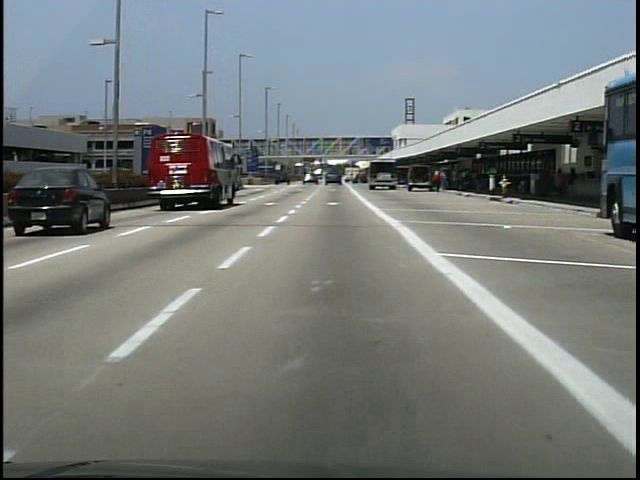person: (435, 173, 445, 197)
